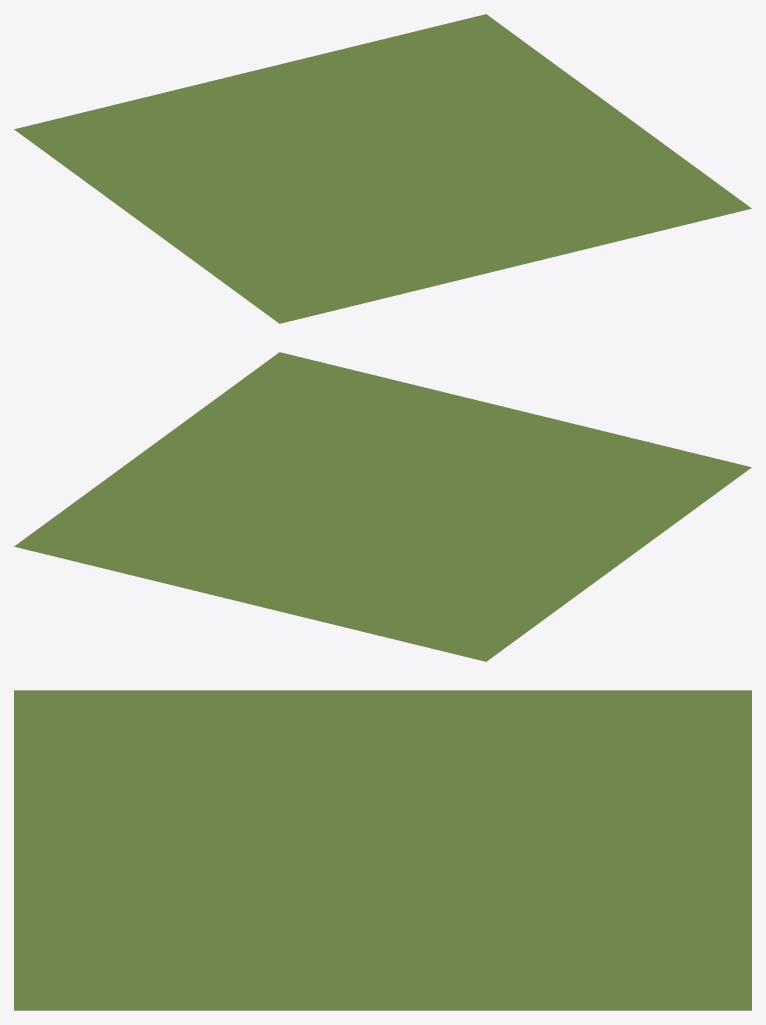
The model's file is region_0_3.glb.
3 views of the same model, one above another, from view 1: azimuth 30°, elevation 25°; view 2: azimuth 150°, elevation 25°; view 3: azimuth 270°, elevation 25° (orthographic). The views are drawn at different scales.
Visible parts, largest first — view 1: OD_Meadow.012; view 2: OD_Meadow.012; view 3: OD_Meadow.012, OD_Ground.012.
Boxes of the visible parts, x1,y1,x2,y2 form: OD_Meadow.012: (14, 14, 751, 323); OD_Meadow.012: (14, 352, 751, 661); OD_Meadow.012: (14, 690, 751, 1010); OD_Ground.012: (14, 1010, 751, 1010).
Size of the model in its own units: 32.35 by 0.00518 by 31.52.
